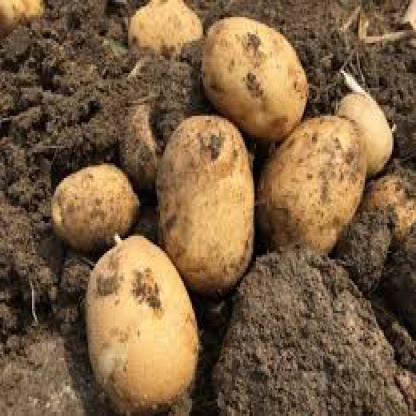potato: (88, 234, 205, 411), (159, 113, 256, 295), (261, 107, 367, 260), (205, 17, 307, 139)
